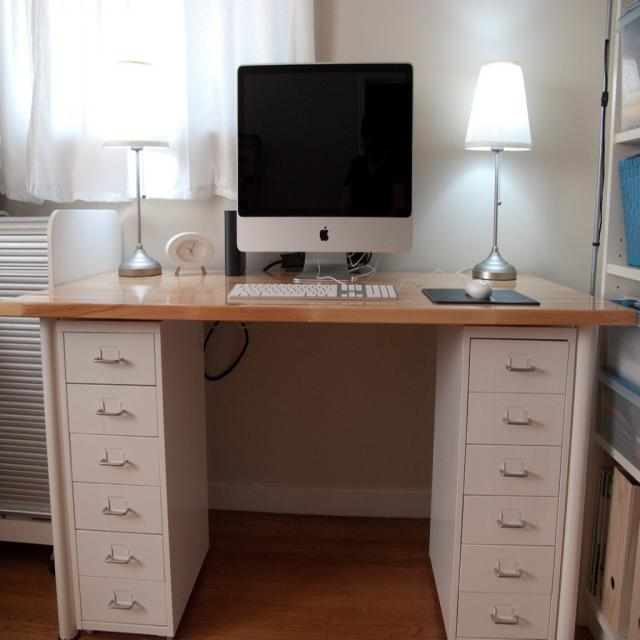desk: (0, 263, 639, 639)
keyboard: (228, 280, 403, 302)
mouse: (464, 279, 493, 300)
tv: (233, 62, 419, 262)
